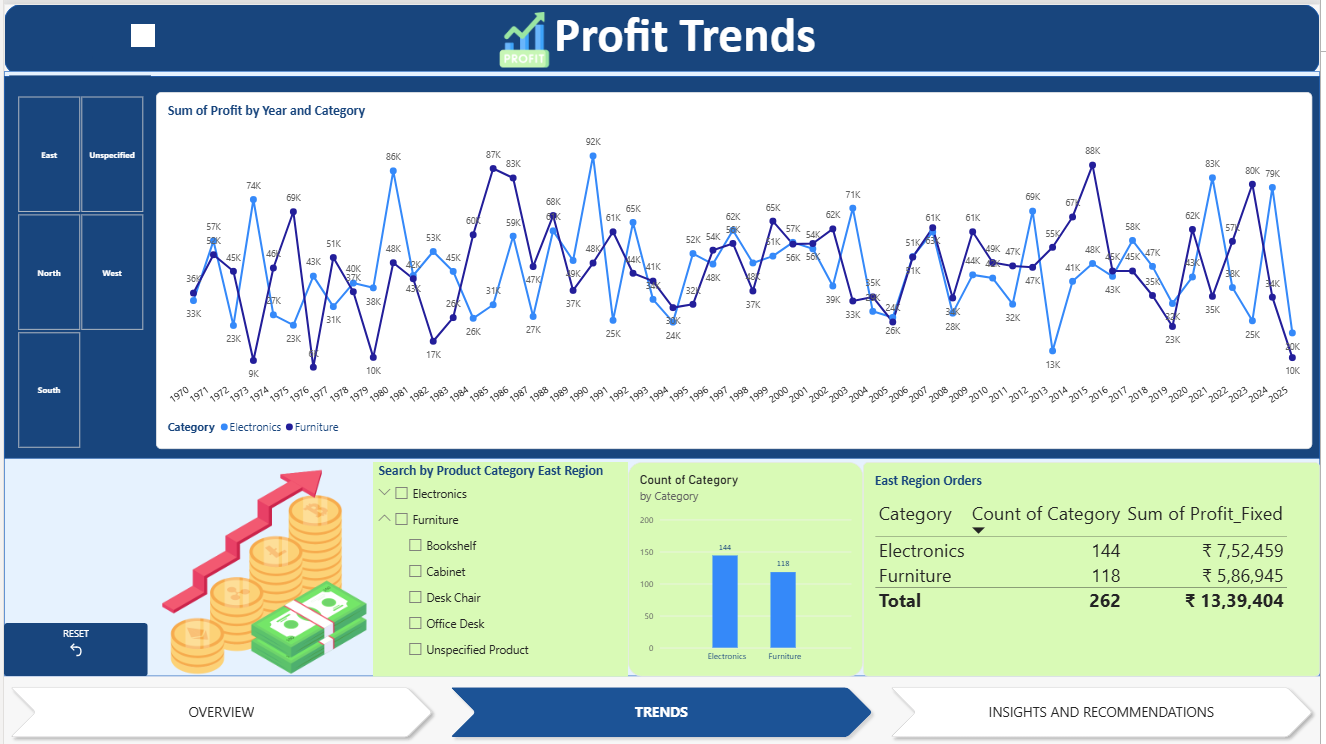

This screenshot's page, from the dashboard's own definition file:
{"tool":"powerbi","page":{"name":"TRENDS","canvas":[1920,1080],"ordinal":1},"visuals":[{"type":"shape","box":[0,0,1920,105],"z":0},{"type":"textbox","box":[363.3,0,1260.5,128.4],"z":1000},{"type":"pageNavigator","box":[0,987.9,1920,91.3],"z":2000},{"type":"shape","box":[0,98.1,1920,883],"z":3000},{"type":"shape","box":[0,104.9,1920,558.2],"z":4000},{"type":"lineChart","title":"Sum of Profit by Year and Category","fields":{"Category":["SalesData_1000Rows_WithIssues_copy.OrderDate.Variation.Date Hierarchy.Year","SalesData_1000Rows_WithIssues_copy.OrderDate.Variation.Date Hierarchy.Month"],"Y":["Sum(SalesData_1000Rows_WithIssues_copy.Profit_Fixed)"],"Series":["SalesData_1000Rows_WithIssues_copy.Category"]},"box":[221.6,128.6,1686.6,521],"z":5000},{"type":"columnChart","fields":{"Category":["EastRegionOrders.Category"],"Y":["CountNonNull(EastRegionOrders.Category)"]},"box":[910.1,668.2,343.4,313],"z":6000},{"type":"tableEx","title":"East Region Orders","fields":{"Values":["EastRegionOrders.Category","CountNonNull(EastRegionOrders.Category)","Sum(EastRegionOrders.Profit_Fixed)"]},"box":[1253.5,668.2,666.5,313],"z":7000},{"type":"slicer","title":"Region","fields":{"Values":["SalesData_1000Rows_WithIssues_copy.Region"]},"box":[0,64.3,221.6,585.3],"z":8000},{"type":"slicer","fields":{"Values":["EastRegionOrders.Category","EastRegionOrders.Product"]},"box":[537.9,668.2,372.2,313],"z":9000},{"type":"actionButton","box":[0,903.3,209.8,77.8],"z":10000},{"type":"image","box":[221.6,669.9,316.3,318],"z":11000},{"type":"image","box":[685.1,11.8,147.2,81.2],"z":12000}]}

Visuals, with their boxes in screenshot pixels (x1, y1, x2, y2), scaled from the page's 1920x1080 canvas onto the 1326x744 screenshot:
shape: (x1=0, y1=0, x2=1325, y2=72)
textbox: (x1=251, y1=0, x2=1121, y2=88)
pageNavigator: (x1=0, y1=681, x2=1325, y2=743)
shape: (x1=0, y1=68, x2=1325, y2=676)
shape: (x1=0, y1=72, x2=1325, y2=457)
"Sum of Profit by Year and Category" lineChart: (x1=153, y1=89, x2=1318, y2=448)
columnChart - EastRegionOrders.Category x CountNonNull(EastRegionOrders.Category): (x1=629, y1=460, x2=866, y2=676)
"East Region Orders" tableEx: (x1=866, y1=460, x2=1325, y2=676)
"Region" slicer: (x1=0, y1=44, x2=153, y2=448)
slicer - EastRegionOrders.Category x EastRegionOrders.Product: (x1=371, y1=460, x2=629, y2=676)
actionButton: (x1=0, y1=622, x2=145, y2=676)
image: (x1=153, y1=461, x2=371, y2=681)
image: (x1=473, y1=8, x2=575, y2=64)
